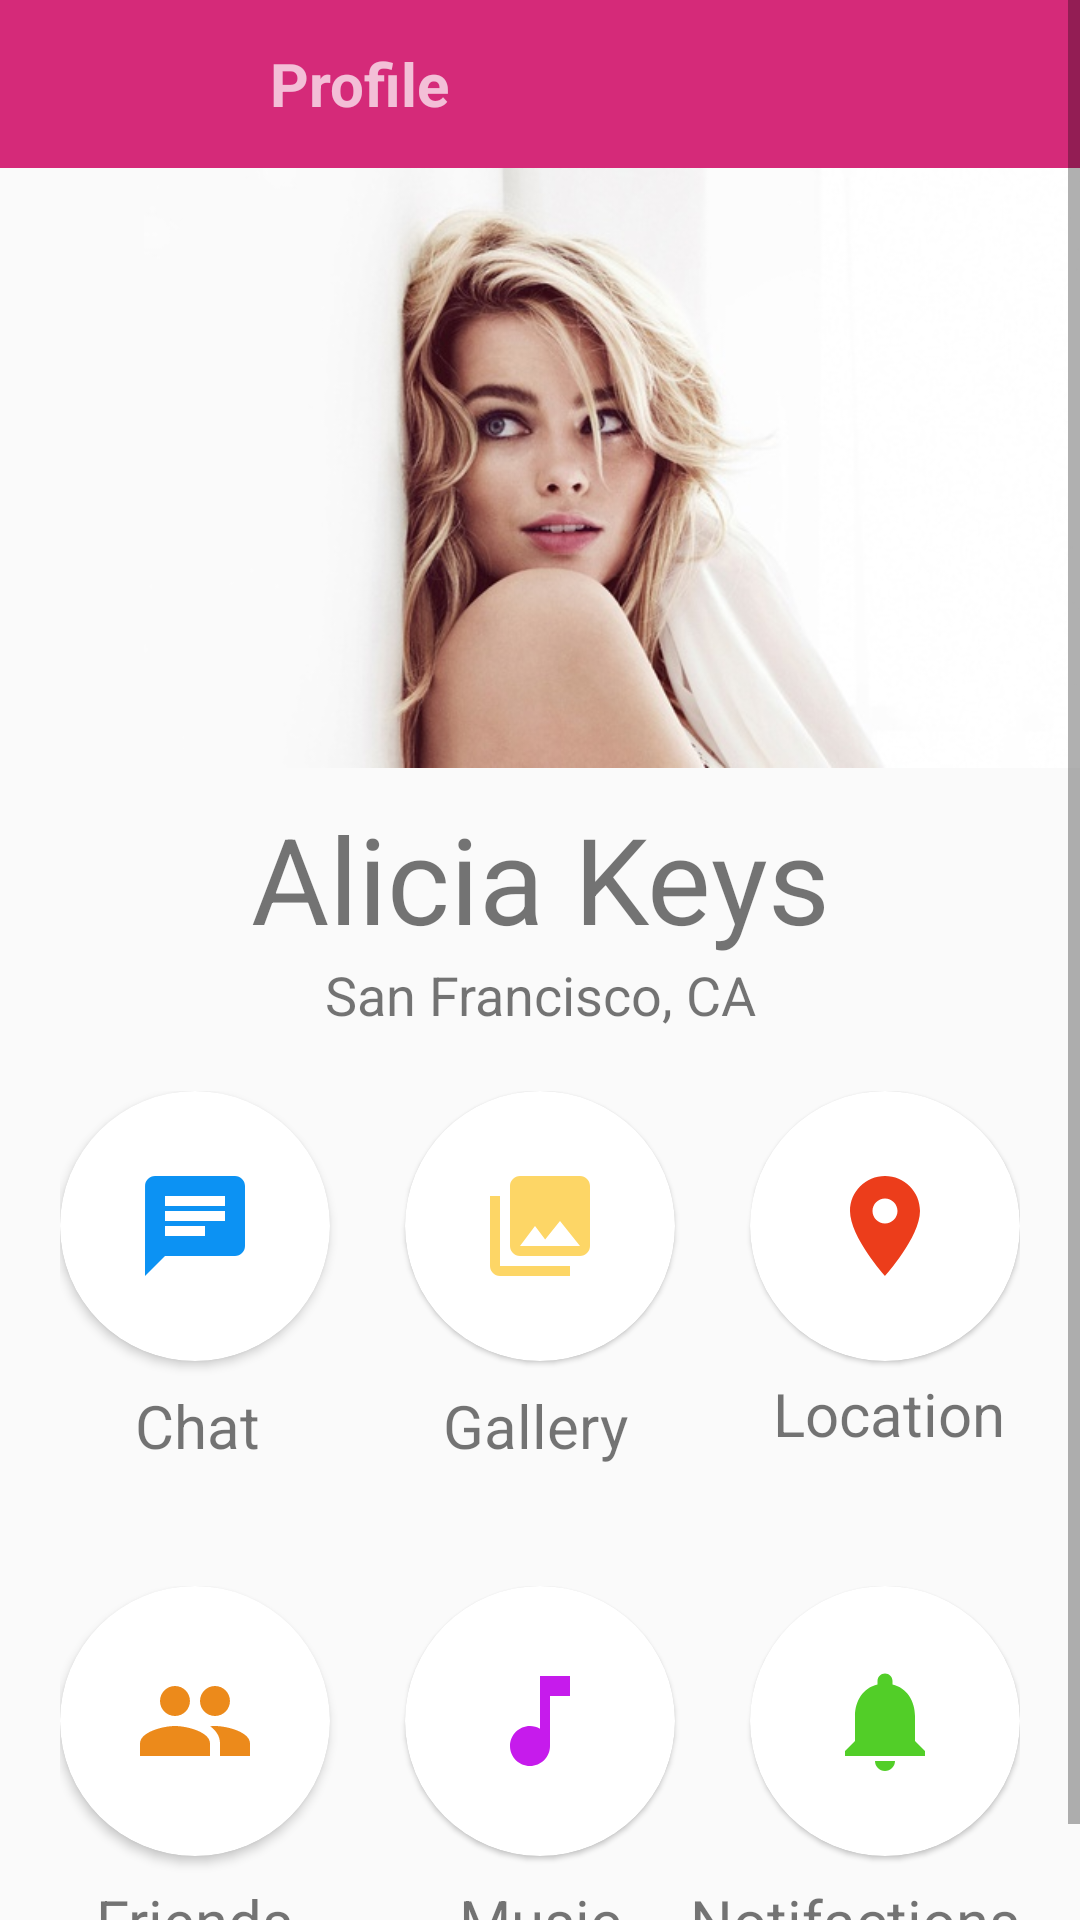

Screen size 1080*1920. Icon name, then its center in pixels as (x=x, y=y):
notifications: (x=885, y=1722)
photo library: (x=540, y=1226)
